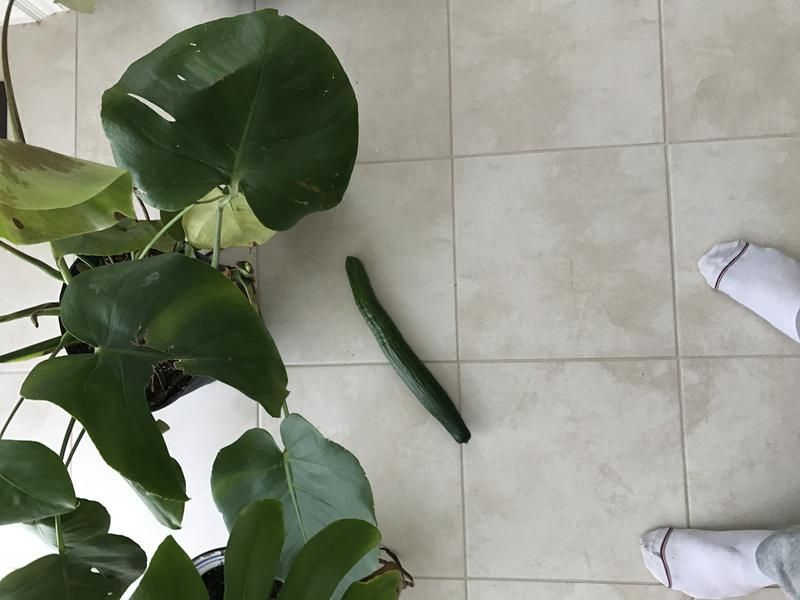cucumber: (331, 245, 473, 455)
